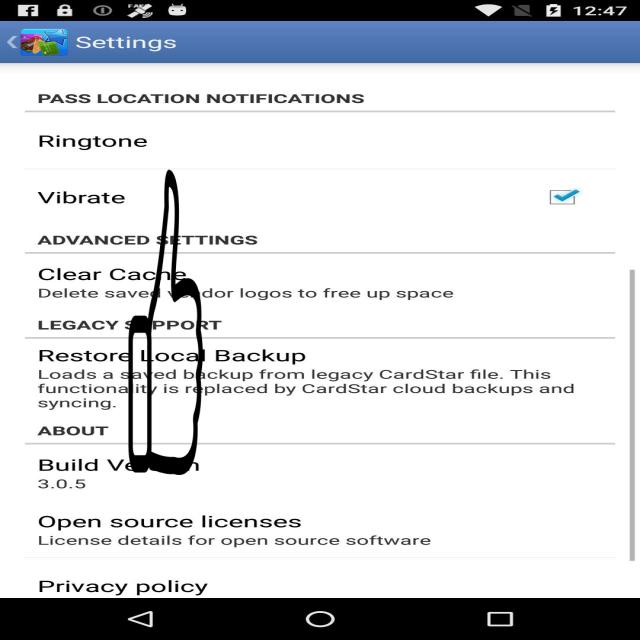privacy zuckering: (127, 170, 204, 475)
